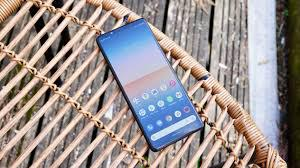Smartphone: (102, 24, 206, 144)
